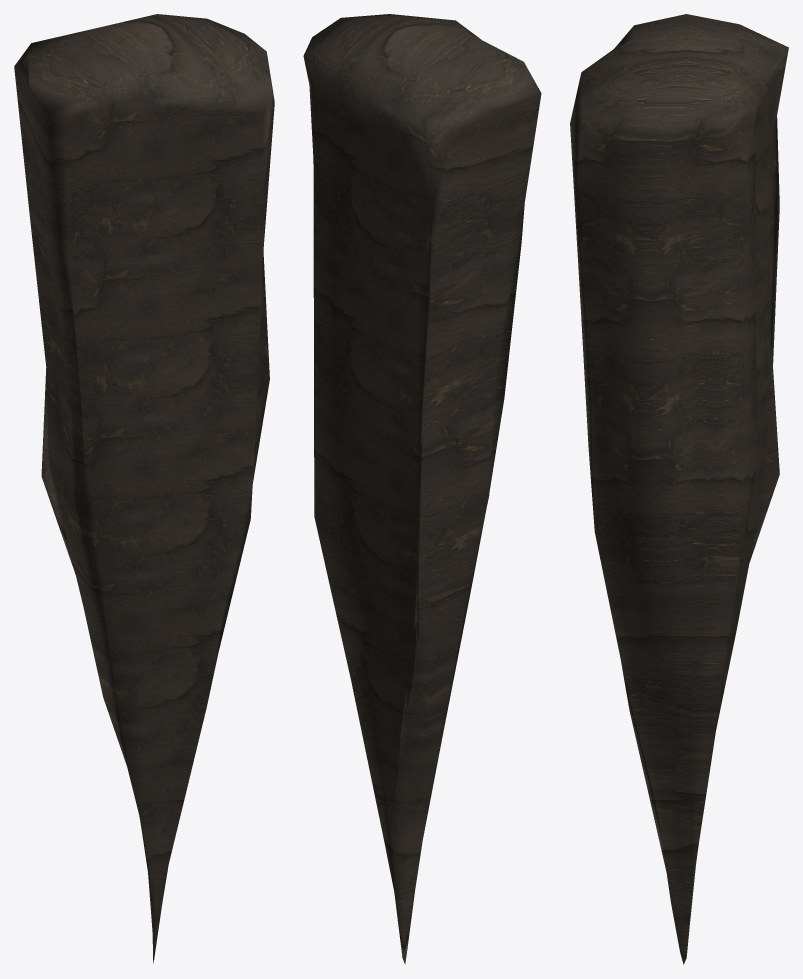
Rendered from cliff_fang_b_lod2.gltf.
3 views of the same model, side by side, from view 1: azimuth 30°, elevation 25°; view 2: azimuth 150°, elevation 25°; view 3: azimuth 270°, elevation 25° (orthographic).
Visible parts, largest first — view 1: cliff_fang_b_LOD2; view 2: cliff_fang_b_LOD2; view 3: cliff_fang_b_LOD2.
Boxes of the visible parts, left/top/right/bottom form: cliff_fang_b_LOD2: left=14, top=14, right=274, bottom=963; cliff_fang_b_LOD2: left=303, top=14, right=541, bottom=964; cliff_fang_b_LOD2: left=570, top=14, right=788, bottom=964.
Bounding box in the file's own units: 11.57 × 48 × 10.35.
1 material, 1 textured.
